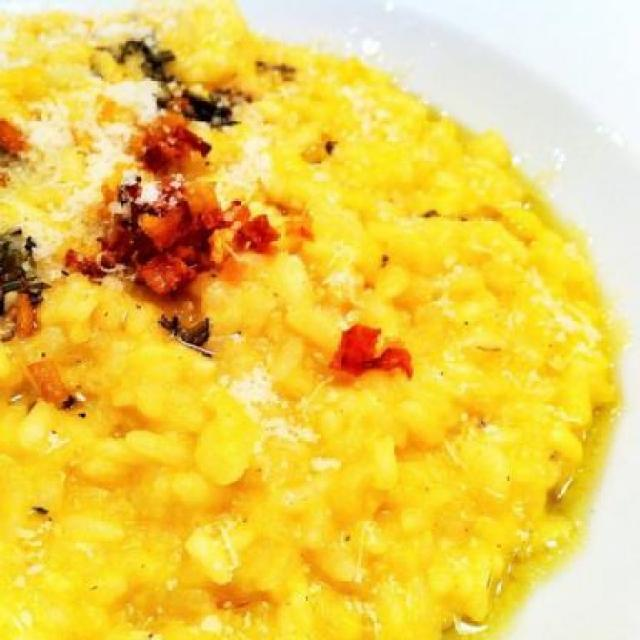Risotto: (9, 8, 618, 632)
